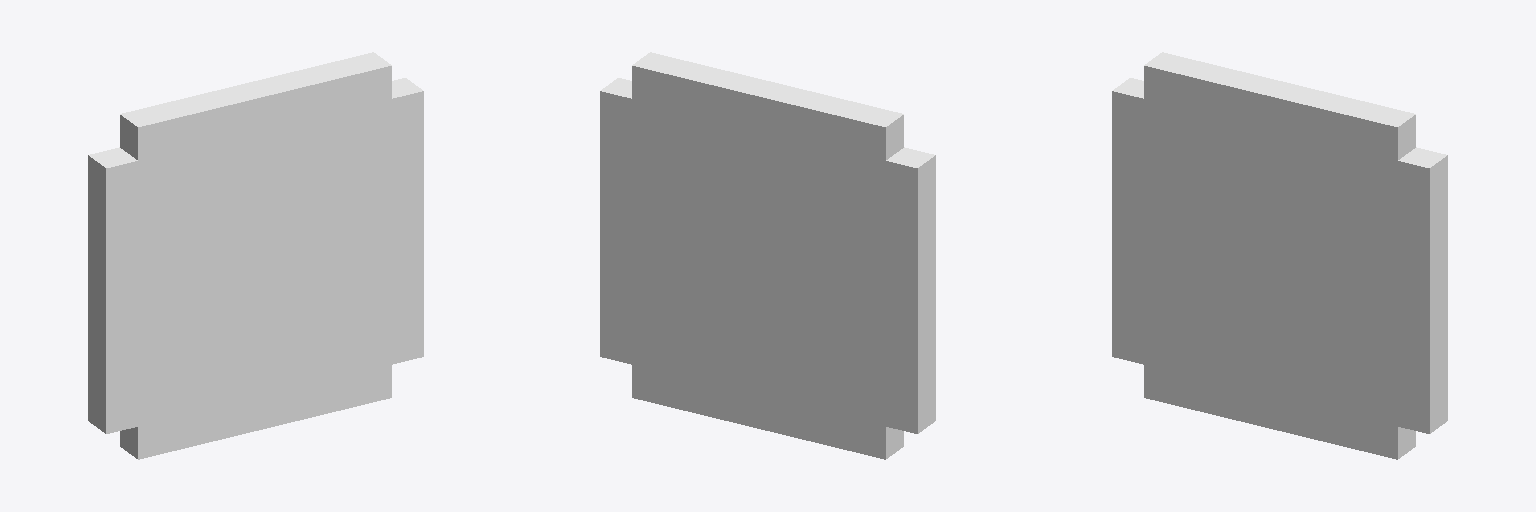
The picture shows the model from 3 angles: view 1: azimuth 30°, elevation 25°; view 2: azimuth 150°, elevation 25°; view 3: azimuth 330°, elevation 25°; orthographic projection.
Parts seen in each view (by area): view 1: object 1; view 2: object 1; view 3: object 1.
Part boxes in pixels (x1,y1,x2,y2): object 1: (88, 52, 423, 459); object 1: (600, 52, 935, 459); object 1: (1112, 52, 1447, 459).
Size of the model in its own units: 1 by 1 by 0.1.
1 materials, 1 textured.